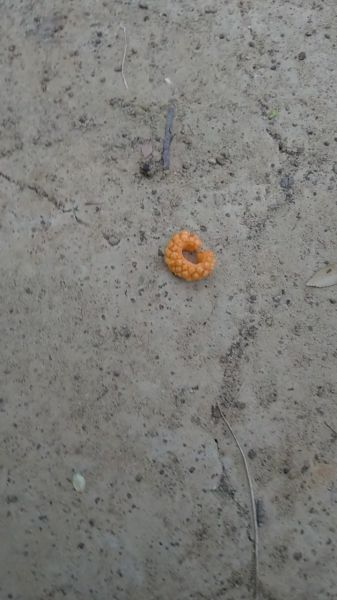eggs: (160, 226, 228, 290)
